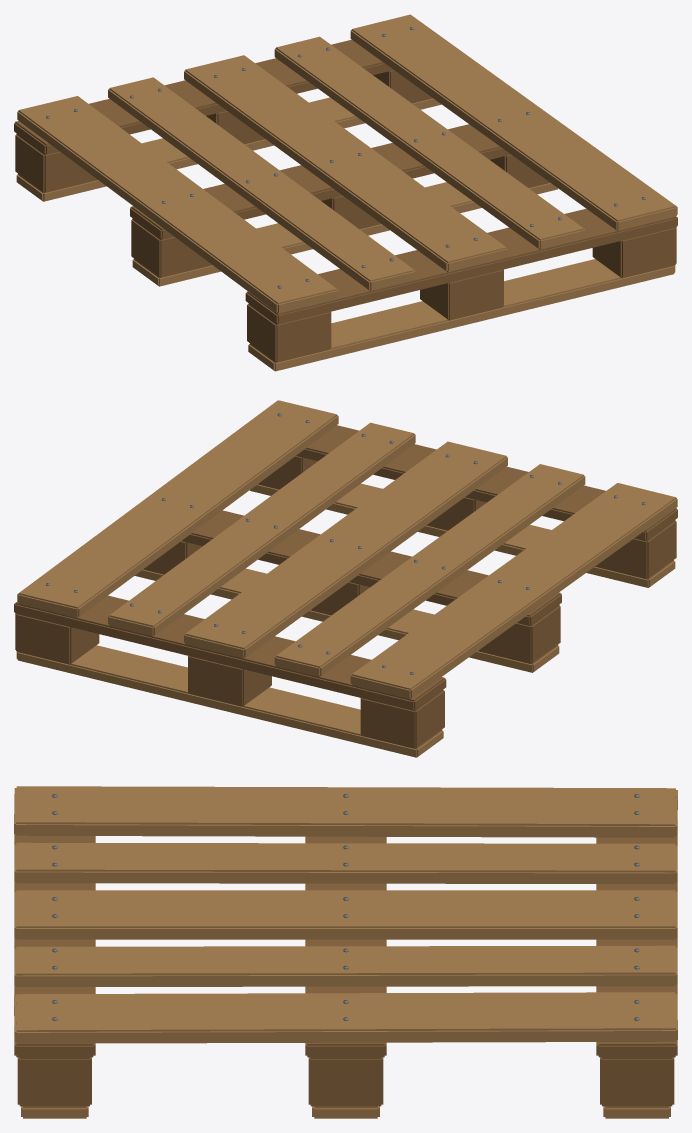
The model's file is euro_pallet.glb.
3 views of the same model, one above another, from view 1: azimuth 30°, elevation 25°; view 2: azimuth 150°, elevation 25°; view 3: azimuth 270°, elevation 25° (orthographic). The views are drawn at different scales.
Parts seen in each view (by area): view 1: PC_Wood, PC_WoodDark; view 2: PC_Wood, PC_WoodDark; view 3: PC_Wood, PC_WoodDark, PC_Steel.
Part boxes in pixels (<box>): PC_Wood: <box>16,14,677,371</box>; PC_WoodDark: <box>14,39,677,362</box>; PC_Wood: <box>16,400,677,757</box>; PC_WoodDark: <box>14,425,677,748</box>; PC_Wood: <box>14,786,677,1118</box>; PC_WoodDark: <box>14,830,677,1106</box>; PC_Steel: <box>52,794,639,1020</box>.
Size of the model in its own units: 0.86 by 0.1463 by 0.9809.
